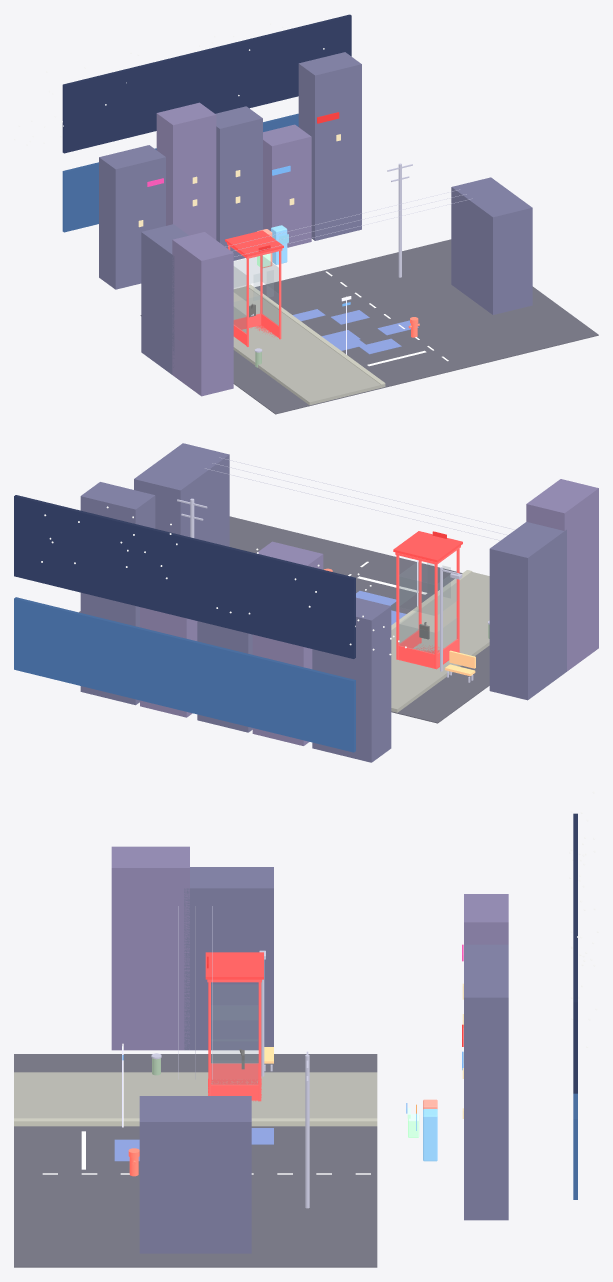
Rendered from phone-booth.glb.
The picture shows the model from 3 angles, top to bottom: view 1: azimuth 30°, elevation 25°; view 2: azimuth 150°, elevation 25°; view 3: azimuth 270°, elevation 25°; orthographic projection. The views are drawn at different scales.
Visible parts, largest first — view 1: Road, SkyBackTop, B5, BRight1, BLeft2, B1, Sidewalk, B2, B3, B4, BLeft1, SkyBackBottom (+3 smaller); view 2: SkyBackTop, SkyBackBottom, BLeft1, Road, BLeft2, BRight1, B1, Sidewalk, B5, B2, B4, B3 (+7 smaller); view 3: Road, BRight1, BLeft2, BLeft1, Sidewalk, B5, B2, Curb, GlassU_Right, RoofCap, GlassU_Left, SkyBackTop (+6 smaller).
Part boxes in pixels (box(x1,y1,x2,y2)): Road: box(140, 239, 598, 414); SkyBackTop: box(62, 14, 351, 153); B5: box(298, 52, 361, 240); BRight1: box(451, 177, 532, 314); BLeft2: box(172, 232, 233, 396); B1: box(99, 145, 165, 289); Sidewalk: box(233, 286, 384, 405); B2: box(156, 102, 216, 239); B3: box(215, 106, 262, 260); B4: box(263, 124, 311, 247); BLeft1: box(141, 224, 188, 374); SkyBackBottom: box(62, 113, 298, 232); SkyBackTop: box(14, 495, 355, 658); SkyBackBottom: box(14, 597, 355, 752); BLeft1: box(489, 522, 566, 700); Road: box(79, 516, 489, 723); BLeft2: box(526, 479, 598, 671); BRight1: box(134, 443, 229, 546); B1: box(312, 597, 391, 762); Sidewalk: box(391, 572, 489, 712); B5: box(80, 482, 155, 705); B2: box(252, 541, 323, 745); B4: box(140, 607, 197, 717); B3: box(197, 621, 252, 732); Road: box(14, 1054, 377, 1267); BRight1: box(139, 1096, 251, 1253); BLeft2: box(111, 846, 189, 1050); BLeft1: box(184, 867, 273, 1050); Sidewalk: box(14, 1072, 377, 1118); B5: box(464, 967, 508, 1220); B2: box(464, 894, 508, 944); Curb: box(14, 1118, 377, 1126); GlassU_Right: box(211, 1006, 257, 1040); RoofCap: box(205, 952, 263, 979); GlassU_Left: box(211, 985, 257, 1019); SkyBackTop: box(573, 813, 577, 1093).
Size of the model in its own units: 10.39 by 5.03 by 10.47.
